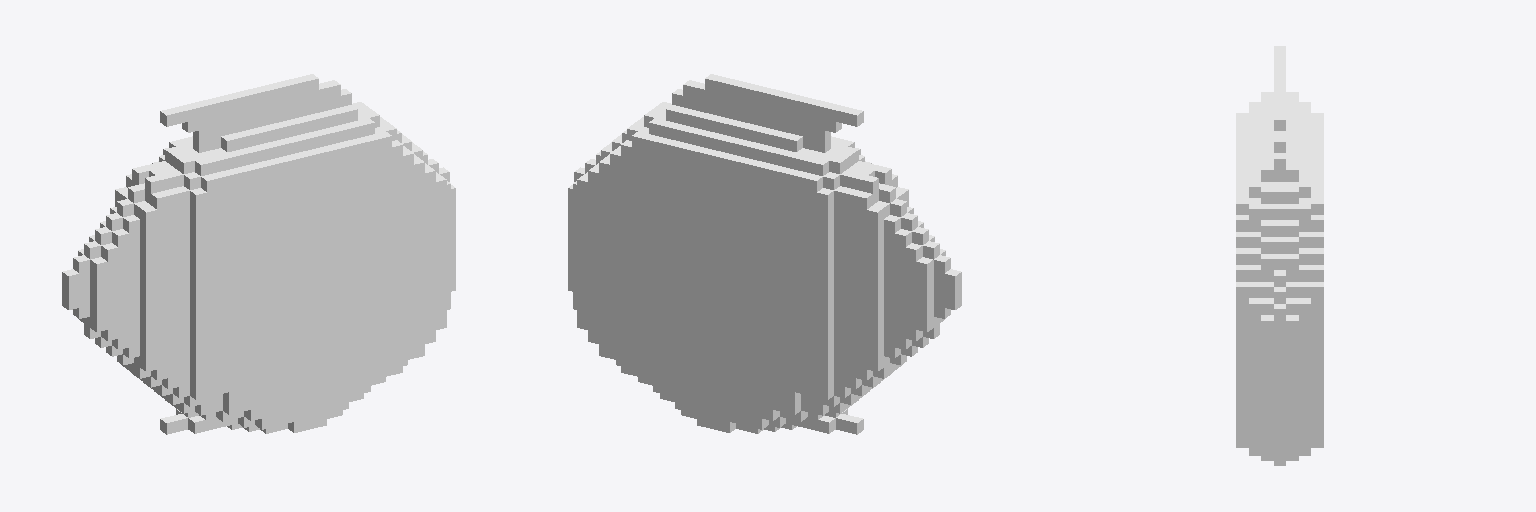
The model's file is bluefish-2.obj.
The picture shows the model from 3 angles: view 1: azimuth 30°, elevation 25°; view 2: azimuth 150°, elevation 25°; view 3: azimuth 270°, elevation 25°; orthographic projection.
Parts seen in each view (by area): view 1: object 1; view 2: object 1; view 3: object 1.
Boxes of the visible parts, x1=… form: object 1: x1=62, y1=74, x2=455, y2=434; object 1: x1=568, y1=74, x2=961, y2=434; object 1: x1=1236, y1=46, x2=1323, y2=465.
Bounding box in the file's own units: 3.5 × 2.9 × 0.7.